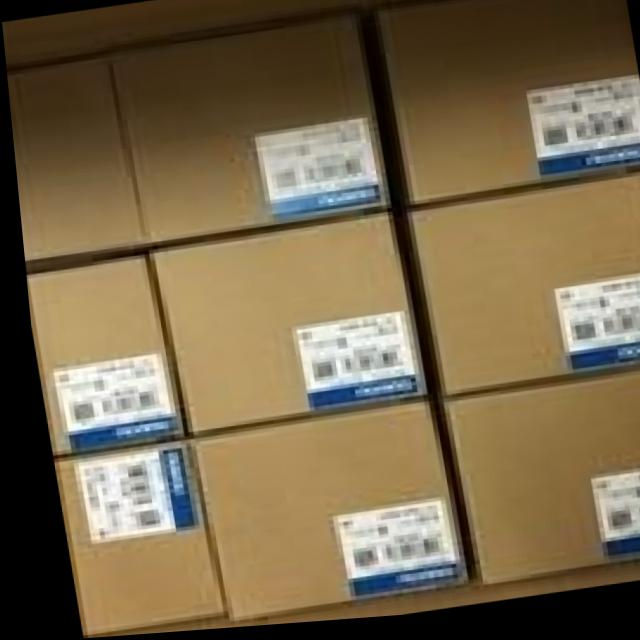box: (113, 19, 387, 255), (180, 406, 461, 627), (143, 220, 424, 438), (363, 0, 640, 215), (397, 181, 640, 402), (424, 375, 640, 592), (44, 441, 215, 635), (21, 259, 180, 455), (5, 55, 143, 271)
